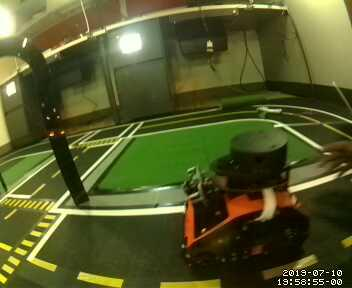pheeno: (181, 125, 312, 266)
